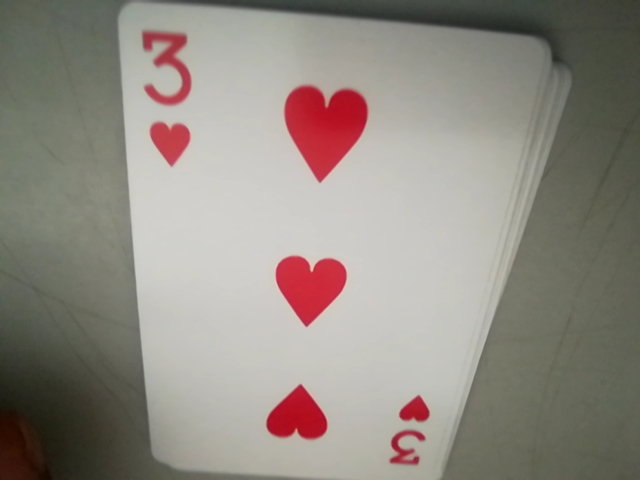hx 3: (125, 11, 202, 170)
